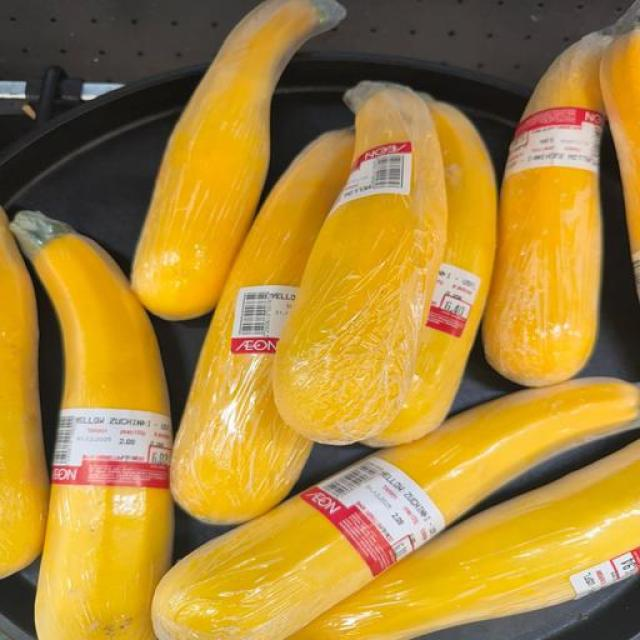organic: (0, 8, 640, 640), (300, 487, 397, 576)
